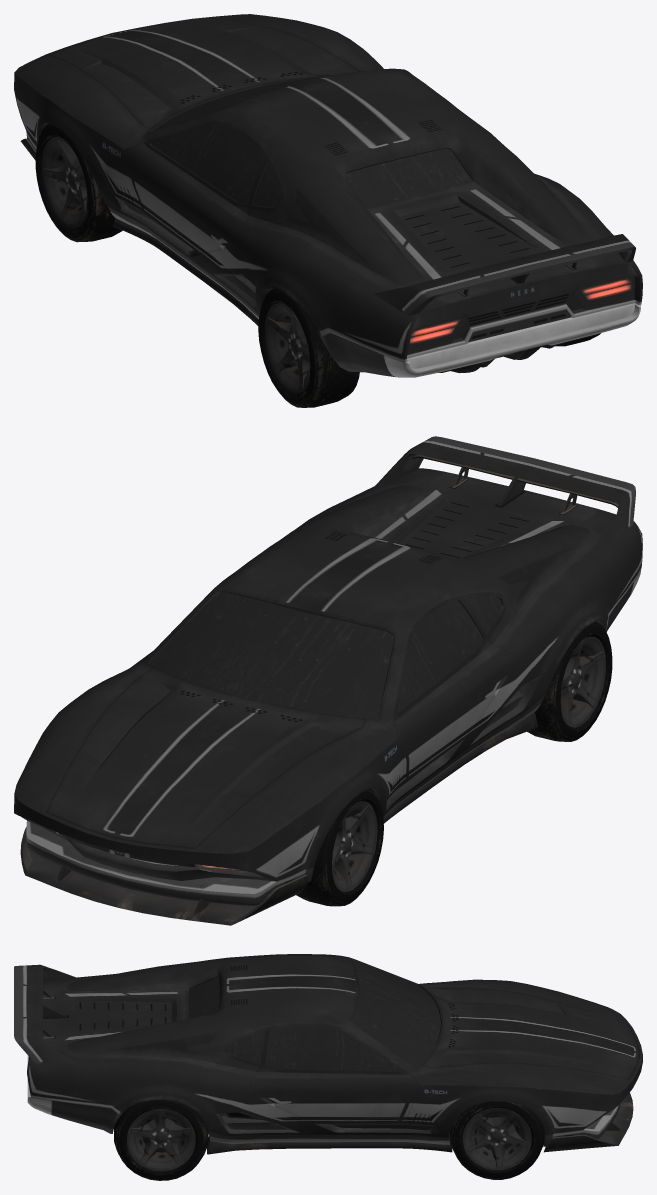
The picture shows the model from 3 angles, top to bottom: view 1: azimuth 30°, elevation 25°; view 2: azimuth 150°, elevation 25°; view 3: azimuth 270°, elevation 25°; orthographic projection. The views are drawn at different scales.
Visible parts, largest first — view 1: BTechFix_Vehicle_0; view 2: BTechFix_Vehicle_0; view 3: BTechFix_Vehicle_0.
Boxes of the visible parts, x1,y1,x2,y2 form: BTechFix_Vehicle_0: [14, 14, 642, 407]; BTechFix_Vehicle_0: [14, 436, 642, 925]; BTechFix_Vehicle_0: [14, 954, 642, 1180].
Bounding box in the file's own units: 329 × 208 × 799.
Materials: 1 (1 with a texture image).
